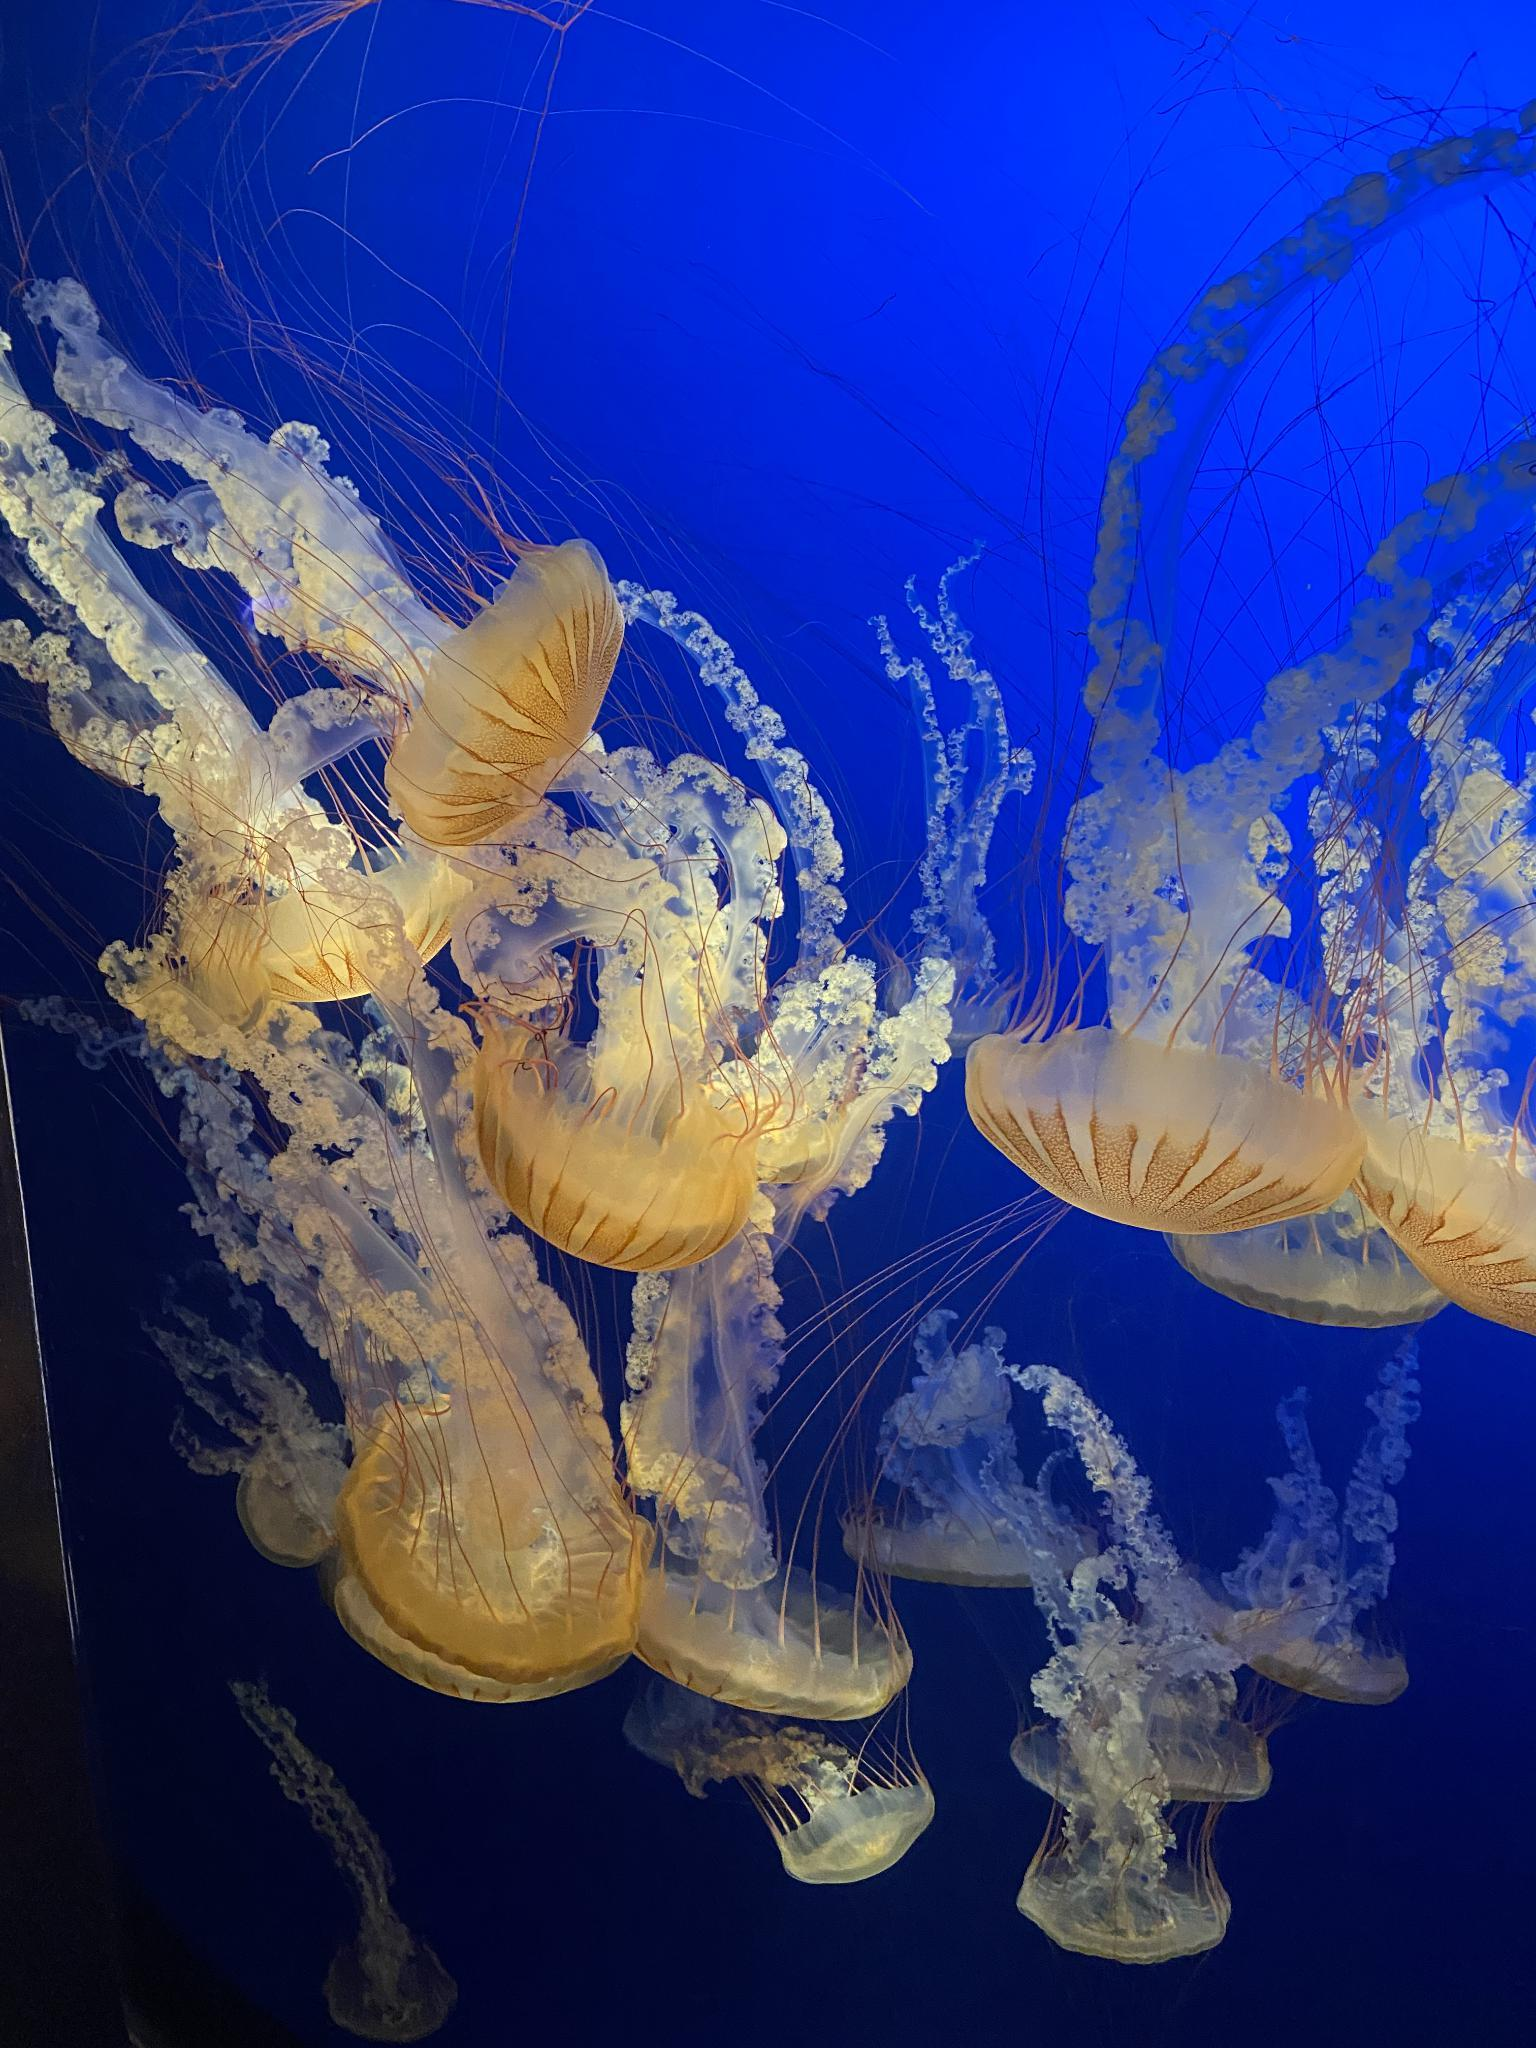jellyfish: (323, 1405, 655, 1717), (958, 1013, 1355, 1237), (382, 524, 624, 839), (466, 1029, 750, 1279), (190, 805, 481, 1011), (626, 1540, 918, 1722), (1333, 1103, 1536, 1345), (1200, 1195, 1438, 1329), (1020, 1701, 1283, 1819), (807, 1496, 1112, 1585), (1007, 1853, 1249, 1950), (763, 1775, 949, 1887), (1226, 1606, 1413, 1714), (211, 1438, 353, 1555)
